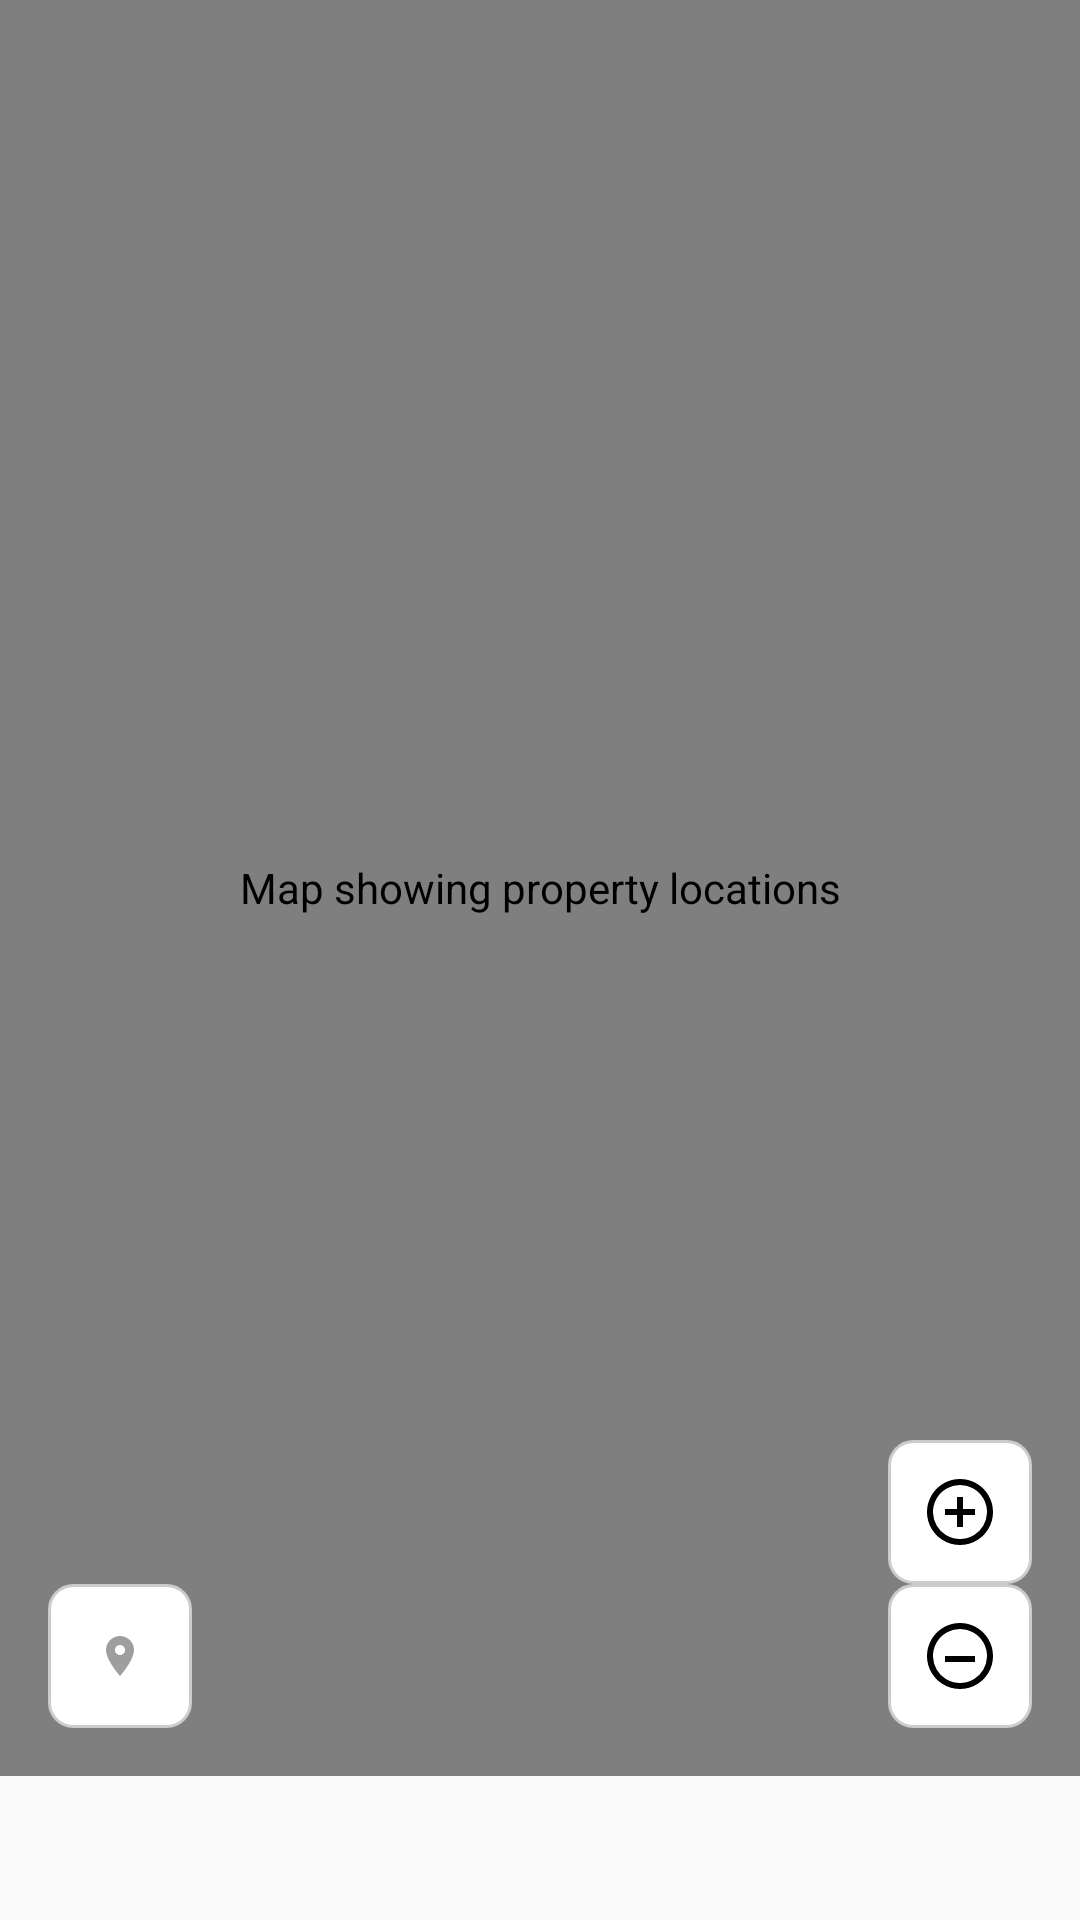

Named icons in this screenshot (1080px x 1920px) and their bounding boxes, box(x1, y1, x2, y2):
My location: box(48, 1584, 192, 1728)
Zoom in: box(888, 1440, 1032, 1584)
Zoom out: box(888, 1584, 1032, 1728)
